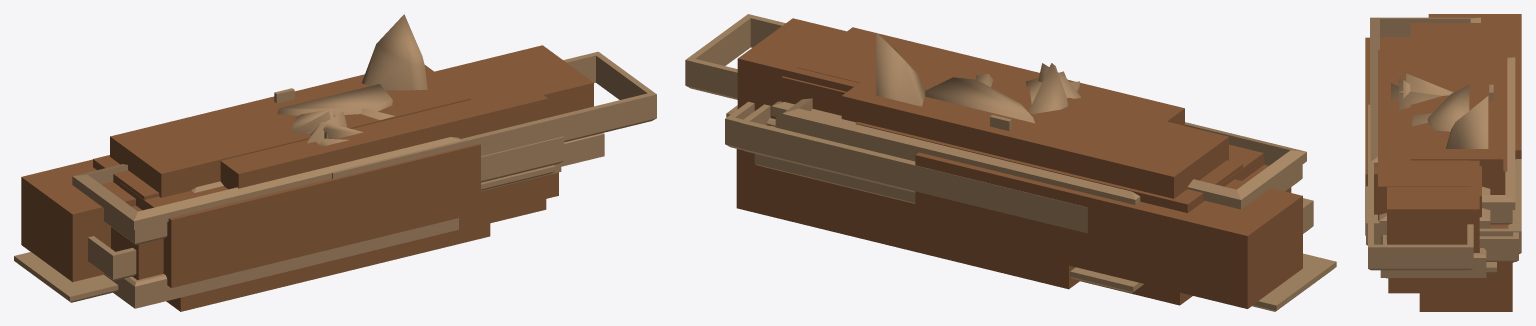
The model's file is rootnode_005_chunks.glb.
3 renders of one model, left to right at view 1: azimuth 30°, elevation 25°; view 2: azimuth 150°, elevation 25°; view 3: azimuth 270°, elevation 25°, orthographic. The views are drawn at different scales.
Parts seen in each view (by area): view 1: PlanterBushes.002_cell.027, PlanterBushes.002_cell.017, PlanterBushes.002_cell, PlanterBushes.002_cell.016, PlanterBushes.002_cell.024, PlanterBushes.002_cell.008, PlanterBushes.002_cell.023, PlanterBushes.002_cell.020, PlanterBushes.002_cell.010, PlanterBushes.002_cell.028, PlanterBushes.002_cell.003, PlanterBushes.002_cell.002 (+4 smaller); view 2: PlanterBushes.002_cell.008, PlanterBushes.002_cell, PlanterBushes.002_cell.013, PlanterBushes.002_cell.030, PlanterBushes.002_cell.031, PlanterBushes.002_cell.016, PlanterBushes.002_cell.017, PlanterBushes.002_cell.020, PlanterBushes.002_cell.024, PlanterBushes.002_cell.011, PlanterBushes.002_cell.002, PlanterBushes.002_cell.001 (+5 smaller); view 3: PlanterBushes.002_cell, PlanterBushes.002_cell.020, PlanterBushes.002_cell.016, PlanterBushes.002_cell.013, PlanterBushes.002_cell.017, PlanterBushes.002_cell.024, PlanterBushes.002_cell.031, PlanterBushes.002_cell.008, PlanterBushes.002_cell.027, PlanterBushes.002_cell.030, PlanterBushes.002_cell.002, PlanterBushes.002_cell.003 (+5 smaller).
Part boxes in pixels (left/top/right/bottom): PlanterBushes.002_cell.027: left=120, top=108, right=480, bottom=287; PlanterBushes.002_cell.017: left=72, top=14, right=461, bottom=308; PlanterBushes.002_cell: left=110, top=64, right=470, bottom=197; PlanterBushes.002_cell.016: left=220, top=61, right=555, bottom=190; PlanterBushes.002_cell.024: left=331, top=51, right=656, bottom=178; PlanterBushes.002_cell.008: left=21, top=159, right=135, bottom=282; PlanterBushes.002_cell.023: left=166, top=189, right=490, bottom=311; PlanterBushes.002_cell.020: left=435, top=45, right=604, bottom=167; PlanterBushes.002_cell.010: left=481, top=136, right=564, bottom=182; PlanterBushes.002_cell.028: left=14, top=252, right=118, bottom=302; PlanterBushes.002_cell.003: left=490, top=175, right=546, bottom=223; PlanterBushes.002_cell.002: left=277, top=84, right=392, bottom=115; PlanterBushes.002_cell.008: left=915, top=152, right=1302, bottom=308; PlanterBushes.002_cell: left=841, top=57, right=1228, bottom=198; PlanterBushes.002_cell.013: left=725, top=63, right=1080, bottom=289; PlanterBushes.002_cell.030: left=739, top=63, right=1087, bottom=232; PlanterBushes.002_cell.031: left=782, top=98, right=1144, bottom=293; PlanterBushes.002_cell.016: left=797, top=27, right=1184, bottom=125; PlanterBushes.002_cell.017: left=876, top=33, right=1306, bottom=209; PlanterBushes.002_cell.020: left=726, top=18, right=858, bottom=126; PlanterBushes.002_cell.024: left=685, top=14, right=785, bottom=99; PlanterBushes.002_cell.011: left=855, top=122, right=1242, bottom=213; PlanterBushes.002_cell.002: left=925, top=77, right=1034, bottom=123; PlanterBushes.002_cell.001: left=754, top=71, right=1065, bottom=203; PlanterBushes.002_cell: left=1410, top=23, right=1503, bottom=194; PlanterBushes.002_cell.020: left=1380, top=160, right=1486, bottom=278; PlanterBushes.002_cell.016: left=1374, top=50, right=1470, bottom=220; PlanterBushes.002_cell.013: left=1403, top=79, right=1518, bottom=311; PlanterBushes.002_cell.017: left=1370, top=17, right=1488, bottom=167; PlanterBushes.002_cell.024: left=1368, top=104, right=1473, bottom=270; PlanterBushes.002_cell.031: left=1482, top=57, right=1515, bottom=224; PlanterBushes.002_cell.008: left=1428, top=14, right=1521, bottom=159; PlanterBushes.002_cell.027: left=1365, top=37, right=1432, bottom=235; PlanterBushes.002_cell.030: left=1406, top=73, right=1521, bottom=253; PlanterBushes.002_cell.002: left=1427, top=85, right=1469, bottom=131; PlanterBushes.002_cell.003: left=1379, top=186, right=1490, bottom=293.
Size of the model in its own units: 4.09 by 1.3 by 1.08.
